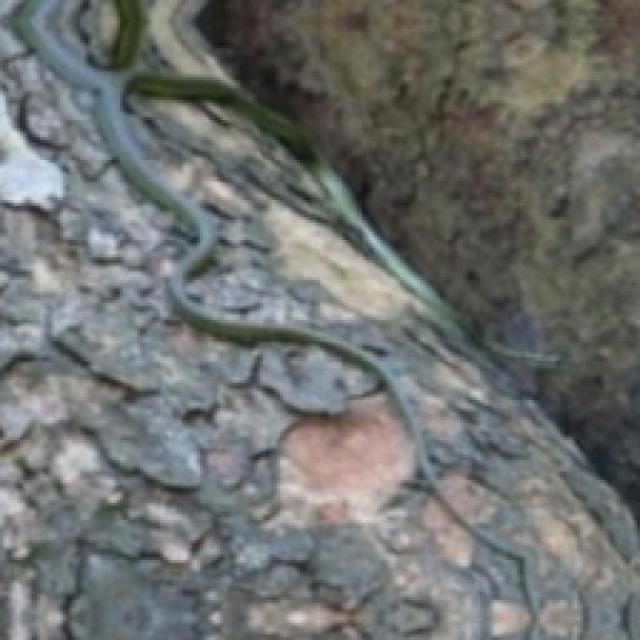paradise tree snake: (14, 0, 556, 496)
